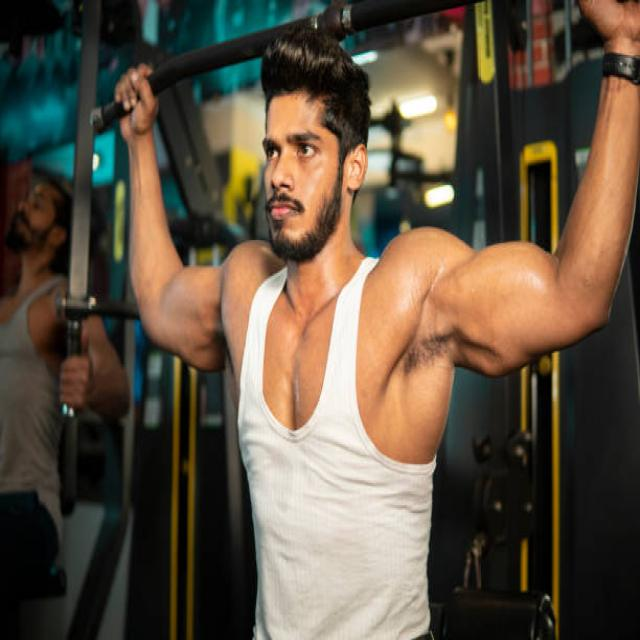no_helmet: (244, 125, 374, 238)
